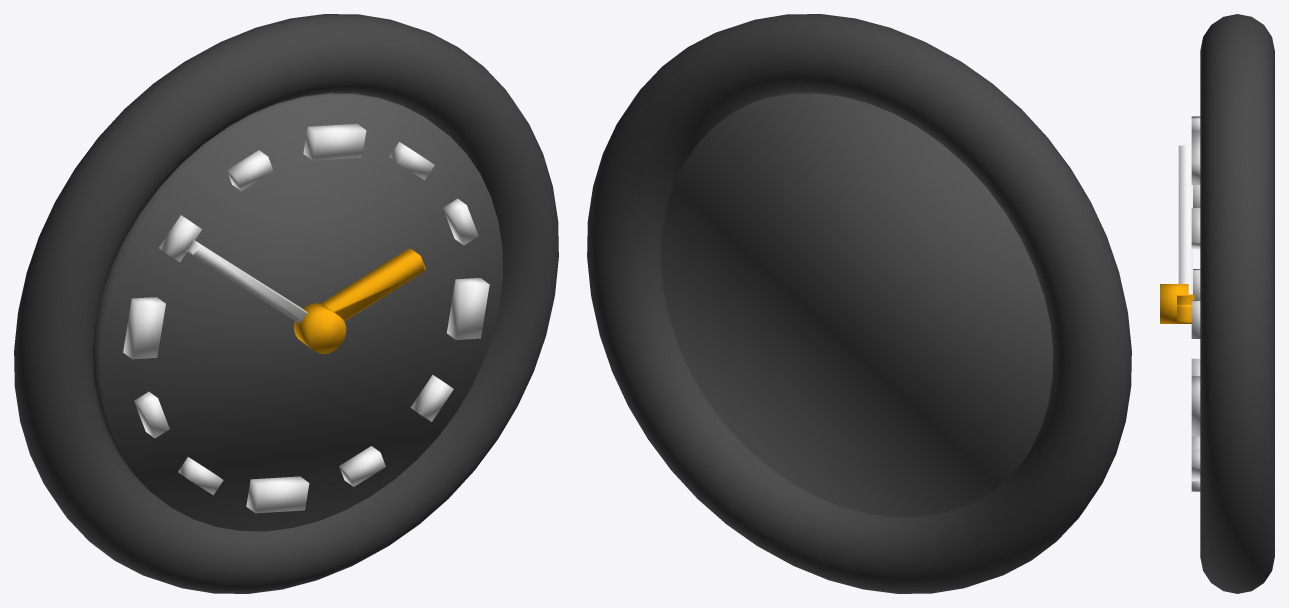
Rendered from clock.glb.
3 views of the same model, side by side, from view 1: azimuth 30°, elevation 25°; view 2: azimuth 150°, elevation 25°; view 3: azimuth 270°, elevation 25° (orthographic). The views are drawn at different scales.
Parts seen in each view (by area): view 1: ClkFace, ClkRing, ClkHour, ClkTk9, ClkTk3, ClkTk0, ClkTk6, ClkMin, ClkCap, ClkTk1, ClkTk7, ClkTk2 (+5 smaller); view 2: ClkFace, ClkRing; view 3: ClkRing, ClkMin, ClkCap, ClkTk3, ClkTk6, ClkHour, ClkTk5, ClkTk4, ClkTk2, ClkTk10, ClkTk9, ClkTk11.
Part boxes in pixels (x1,y1,x2,y2): ClkFace: (93,93,502,531); ClkRing: (14,14,558,593); ClkHour: (321,248,425,321); ClkTk9: (123,297,165,359); ClkTk3: (447,278,489,339); ClkTk0: (246,476,309,513); ClkTk6: (303,123,366,160); ClkMin: (186,239,307,323); ClkCap: (294,303,346,353); ClkTk1: (339,446,385,486); ClkTk7: (227,150,273,191); ClkTk2: (410,375,453,421); ClkFace: (661,93,1052,517); ClkRing: (587,14,1131,593); ClkRing: (1200,14,1274,593); ClkMin: (1178,145,1192,294); ClkCap: (1160,284,1188,323); ClkTk3: (1191,376,1200,436); ClkTk6: (1191,131,1200,184); ClkHour: (1177,294,1194,323); ClkTk5: (1191,208,1200,249); ClkTk4: (1191,300,1200,338); ClkTk2: (1191,449,1200,481); ClkTk10: (1193,269,1200,300); ClkTk9: (1193,185,1200,207); ClkTk11: (1191,358,1200,375).
Size of the model in its own units: 2.02 by 2.02 by 0.4.
